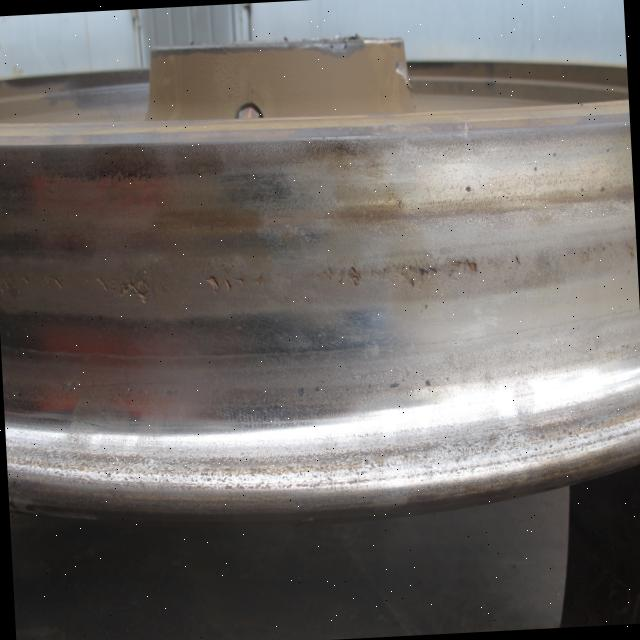Peeling: (324, 269, 363, 290), (207, 276, 245, 294), (121, 283, 147, 306), (454, 259, 479, 276), (96, 279, 110, 293), (54, 276, 63, 289), (22, 277, 31, 287)
